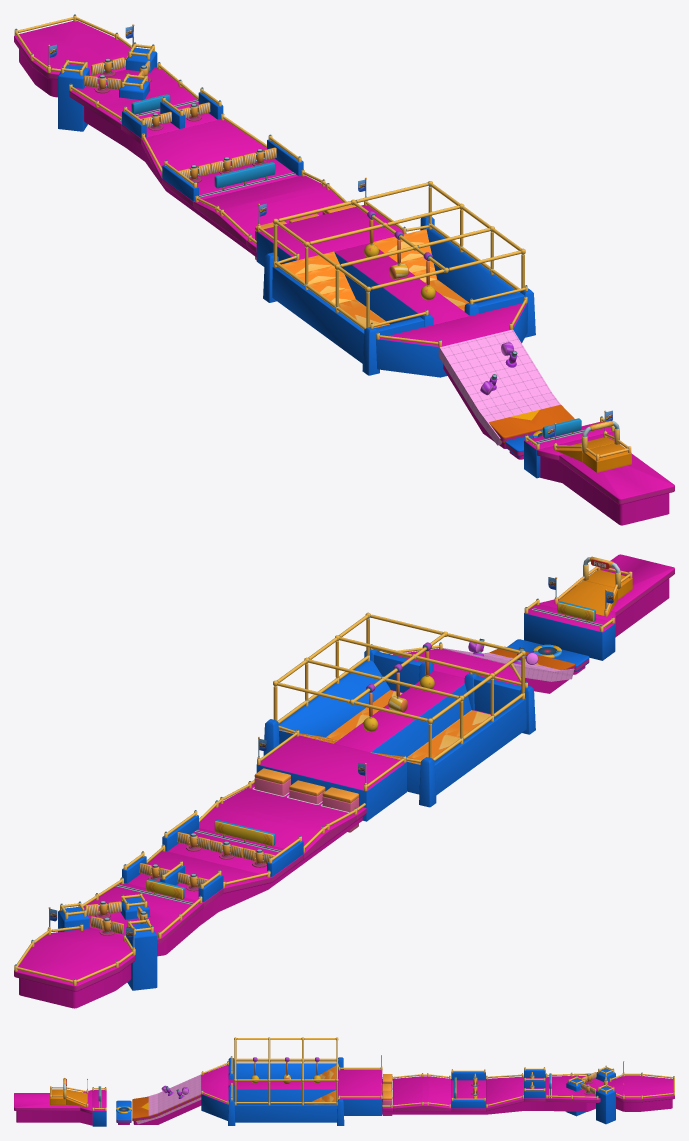
Rendered from stumble_guys_pivot_push_map.glb.
The picture shows the model from 3 angles, top to bottom: view 1: azimuth 30°, elevation 25°; view 2: azimuth 150°, elevation 25°; view 3: azimuth 270°, elevation 25°; orthographic projection. The views are drawn at different scales.
Visible parts, largest first — view 1: Level5Visuals, SlipperySurface, GoalPlatform, TreadMillWide (11), TreadMillWide (9), RailObstacleLarge2; view 2: Level5Visuals, GoalPlatform, TreadMillWide (3), SlipperySurface, RailObstacleLarge2, RisingPlatform.002, RisingPlatform, TreadMillWide (7); view 3: Level5Visuals, SlipperySurface, GoalPlatform, FenceLongLVL5 (10).001, RisingPlatform.002, TreadMillWide (11).
Boxes of the visible parts, <box> form: Level5Visuals: <box>14,21,674,525</box>; SlipperySurface: <box>438,329,560,445</box>; GoalPlatform: <box>555,437,631,472</box>; TreadMillWide (11): <box>281,251,344,284</box>; TreadMillWide (9): <box>372,229,431,261</box>; RailObstacleLarge2: <box>214,162,275,190</box>; Level5Visuals: <box>14,554,674,1008</box>; GoalPlatform: <box>558,570,632,615</box>; TreadMillWide (3): <box>407,710,490,760</box>; SlipperySurface: <box>442,648,574,681</box>; RailObstacleLarge2: <box>214,820,275,848</box>; RisingPlatform.002: <box>254,768,290,795</box>; RisingPlatform: <box>322,787,358,832</box>; TreadMillWide (7): <box>326,690,402,740</box>; Level5Visuals: <box>14,1057,674,1126</box>; SlipperySurface: <box>136,1074,201,1124</box>; GoalPlatform: <box>50,1089,87,1106</box>; FenceLongLVL5 (10).001: <box>236,1058,335,1060</box>; RisingPlatform.002: <box>383,1090,392,1115</box>; TreadMillWide (11): <box>321,1065,336,1079</box>.
Size of what is drawn, in the model's own units: 0.1837 by 0.1124 by 1.15.
46 materials, 39 textured.
